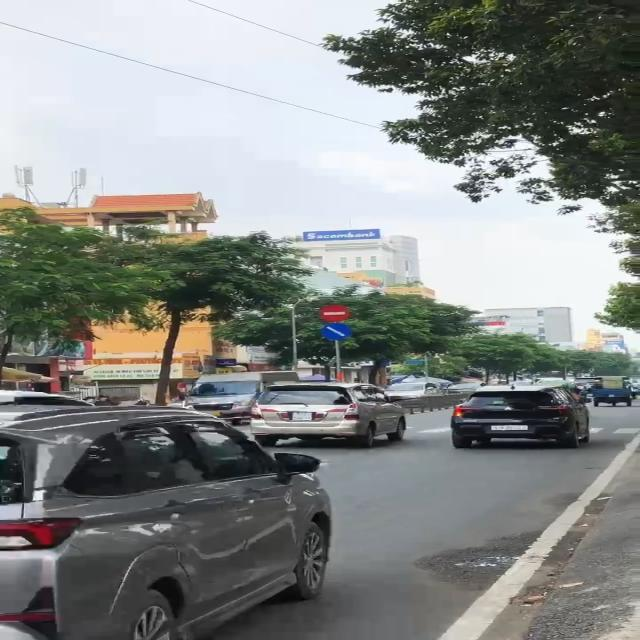Bien bao cam di nguoc chieu: (319, 303, 353, 323)
Bien bao huong phai di vong chuong ngai vat: (322, 322, 352, 341)
